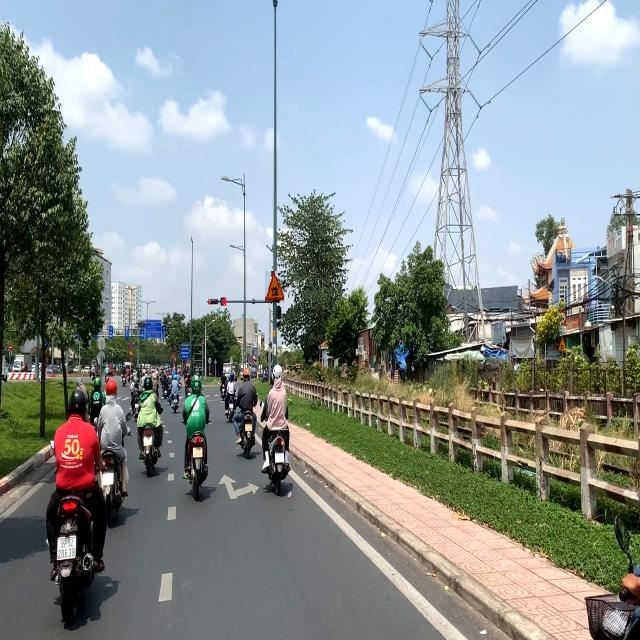bien_nguy_hiem: (266, 271, 286, 302), (8, 344, 12, 351), (104, 325, 108, 332), (129, 342, 133, 349), (162, 326, 166, 331), (141, 326, 144, 331), (126, 326, 128, 331)
